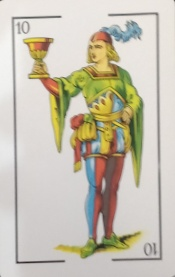10c: (9, 10, 160, 36)
